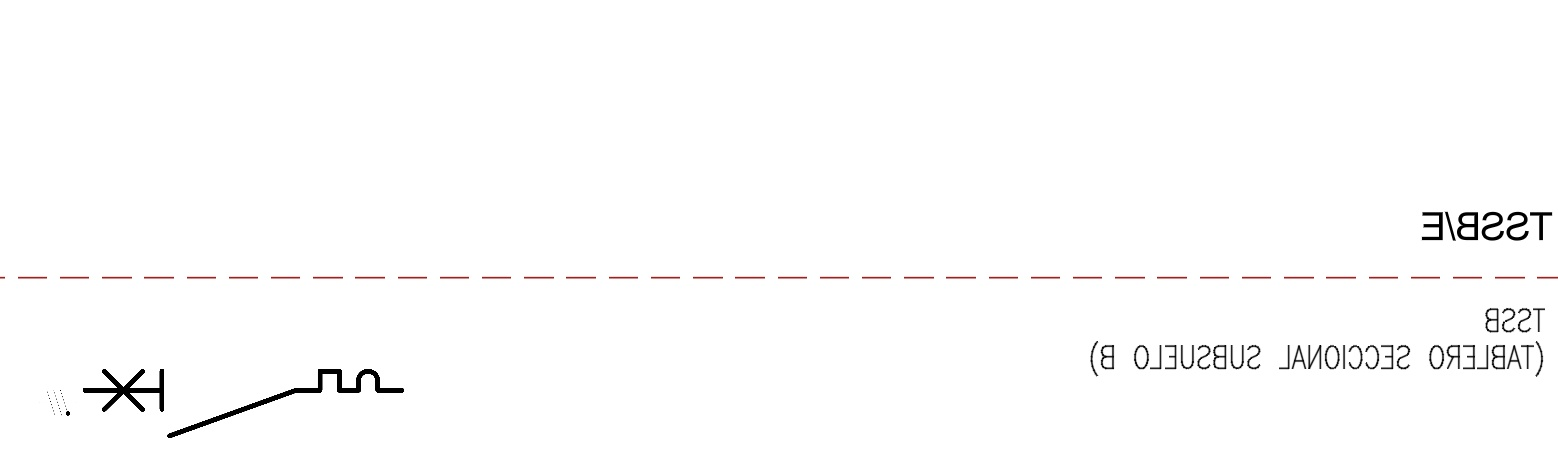interruptor_termomagnetico: (76, 363, 409, 444)
